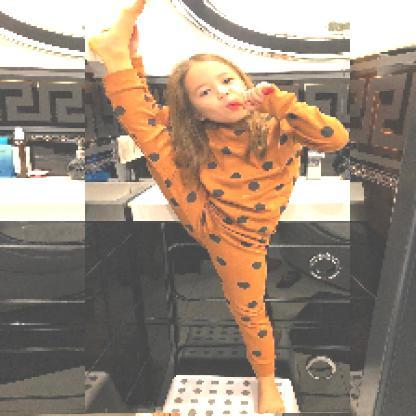child: (86, 1, 352, 415)
